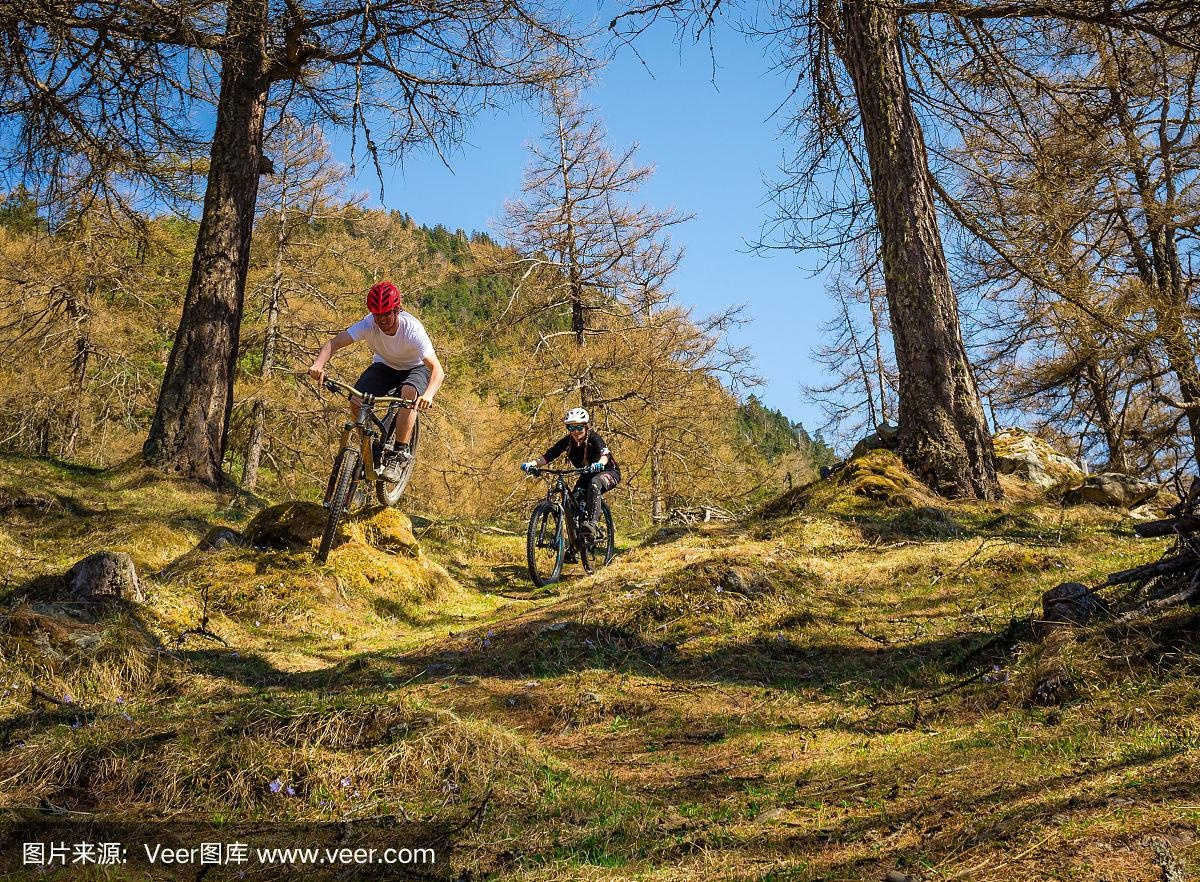non-vehicle: (312, 370, 432, 543), (521, 453, 626, 583)
